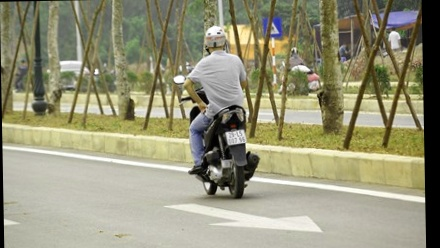Bien-so: (226, 129, 248, 146)
